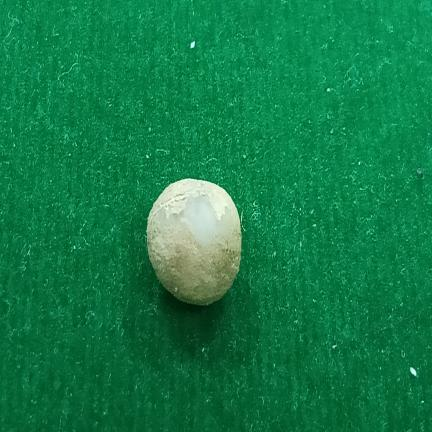cut: (147, 179, 242, 305)
